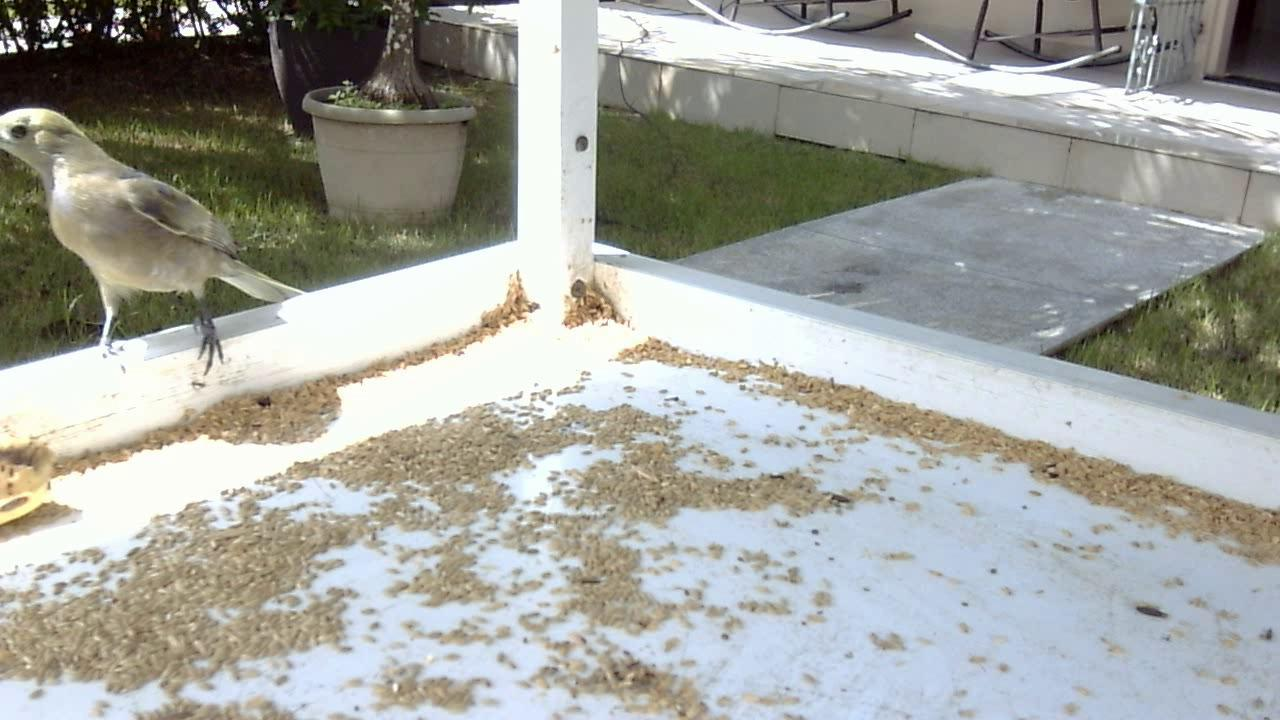sanhaco_do_coqueiro: (1, 108, 297, 381)
